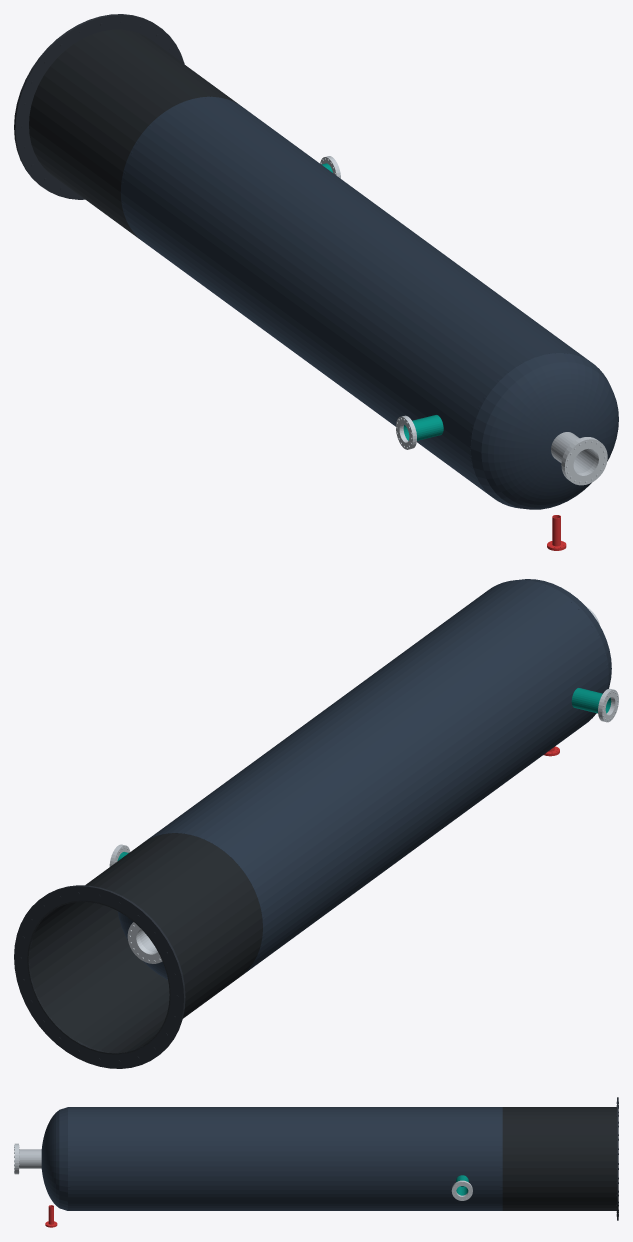
Rendered from R201_Ethylene_Oxide_Reactor_PBR.glb.
3 views of the same model, one above another, from view 1: azimuth 30°, elevation 25°; view 2: azimuth 150°, elevation 25°; view 3: azimuth 270°, elevation 25° (orthographic). The views are drawn at different scales.
Parts seen in each view (by area): view 1: geometry_0, geometry_1, geometry_15, geometry_2, geometry_18, geometry_17; view 2: geometry_0, geometry_1, geometry_2, geometry_15; view 3: geometry_0, geometry_1, geometry_15, geometry_17, geometry_22, geometry_2.
Part boxes in pixels (x1=…): geometry_0: x1=120, y1=96, x2=608, y2=508; geometry_1: x1=29, y1=29, x2=237, y2=239; geometry_15: x1=469, y1=351, x2=618, y2=509; geometry_2: x1=14, y1=14, x2=184, y2=199; geometry_18: x1=561, y1=437, x2=607, y2=485; geometry_17: x1=551, y1=432, x2=595, y2=473; geometry_0: x1=143, y1=580, x2=608, y2=974; geometry_1: x1=27, y1=833, x2=262, y2=1054; geometry_2: x1=14, y1=885, x2=185, y2=1068; geometry_15: x1=492, y1=579, x2=611, y2=717; geometry_0: x1=68, y1=1107, x2=502, y2=1210; geometry_1: x1=502, y1=1107, x2=616, y2=1210; geometry_15: x1=41, y1=1107, x2=70, y2=1210; geometry_17: x1=19, y1=1149, x2=41, y2=1168; geometry_22: x1=451, y1=1180, x2=472, y2=1200; geometry_2: x1=616, y1=1097, x2=618, y2=1220.
Size of the model in its own units: 3.24 by 2.83 by 12.72.
